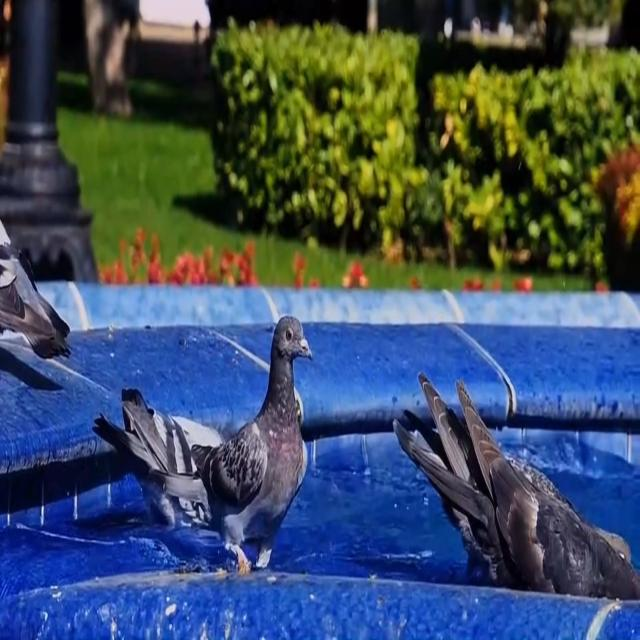bird: (394, 356, 639, 582), (415, 368, 640, 603), (181, 302, 319, 578), (92, 363, 242, 548), (0, 181, 78, 409)
